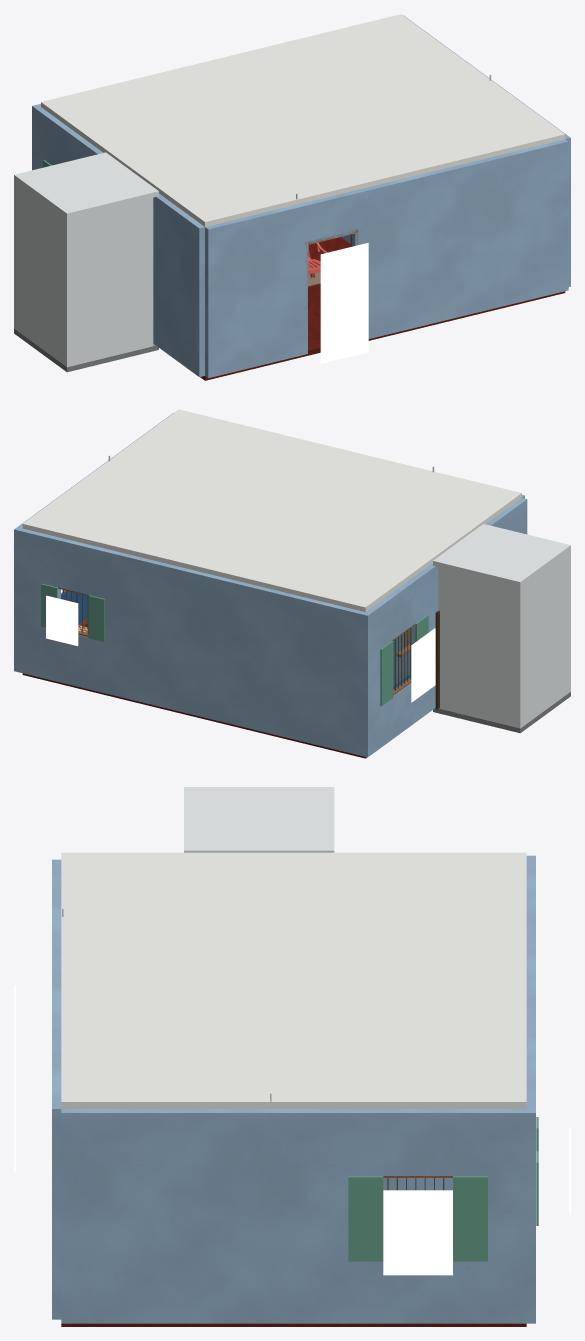
Rendered from room_home.glb.
3 renders of one model, top to bottom at view 1: azimuth 30°, elevation 25°; view 2: azimuth 150°, elevation 25°; view 3: azimuth 270°, elevation 25°, orthographic. The views are drawn at different scales.
Parts seen in each view (by area): view 1: Room; view 2: Room; view 3: Room.
Part boxes in pixels (left/top/right/bottom): Room: left=14, top=14, right=570, bottom=380; Room: left=14, top=409, right=570, bottom=758; Room: left=14, top=787, right=570, bottom=1326.
Size of the model in its own units: 10.17 by 3.31 by 7.18.
108 materials, 27 textured.
